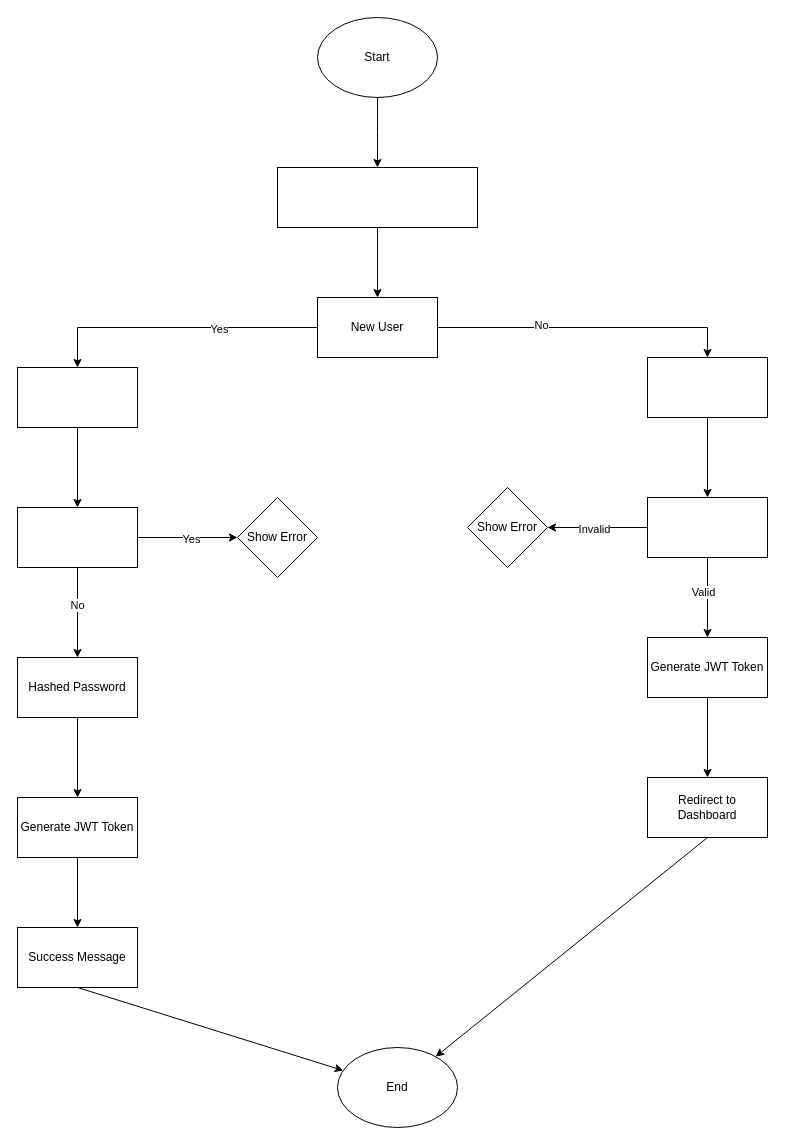
This 785x1145 diagram has some shape labels left out. Here are the shapes that lost their labels. From the top down, the centre of each, then its label:
point 377,197: Open Log in/Registration
point 77,397: Enter Email and Password
point 707,387: Enter email & password
point 77,537: Email Exist?
point 707,527: Verify Credentials against DB
